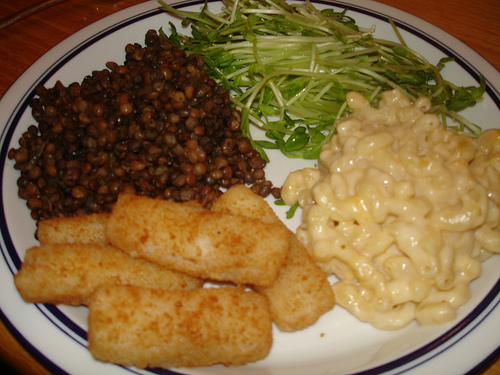macncheese: (282, 83, 500, 332)
